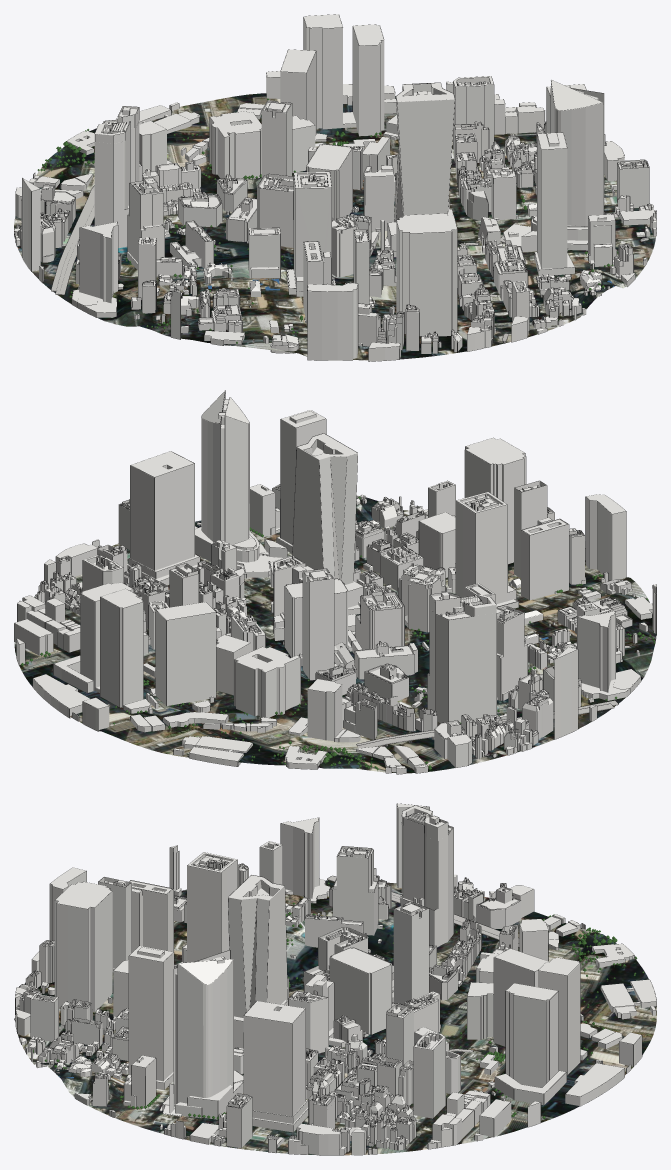
The model's file is Toranomon-city-model-complete.glb.
3 renders of one model, top to bottom at view 1: azimuth 30°, elevation 25°; view 2: azimuth 150°, elevation 25°; view 3: azimuth 270°, elevation 25°, orthographic.
Parts seen in each view (by area): view 1: BUILDINGS_COMMERCIAL, BUILDINGS_OTHER, TERRAIN, OUTLINES, BUILDINGS_PUBLIC, BUILDINGS_RESIDENTIAL, BRIDGES; view 2: BUILDINGS_COMMERCIAL, BUILDINGS_OTHER, OUTLINES, BUILDINGS_PUBLIC, TERRAIN, BUILDINGS_RESIDENTIAL, BRIDGES; view 3: BUILDINGS_COMMERCIAL, BUILDINGS_OTHER, OUTLINES, TERRAIN, BUILDINGS_PUBLIC, BUILDINGS_RESIDENTIAL, BRIDGES.
Part boxes in pixels (box(x1,y1,x2,y2)): BUILDINGS_COMMERCIAL: box(22, 49, 613, 360); BUILDINGS_OTHER: box(14, 94, 656, 353); TERRAIN: box(14, 93, 655, 360); OUTLINES: box(14, 14, 656, 361); BUILDINGS_PUBLIC: box(139, 14, 452, 345); BUILDINGS_RESIDENTIAL: box(67, 131, 616, 361); BRIDGES: box(51, 186, 618, 343); BUILDINGS_COMMERCIAL: box(82, 391, 640, 739); BUILDINGS_OTHER: box(14, 484, 656, 774); OUTLINES: box(14, 390, 656, 774); BUILDINGS_PUBLIC: box(16, 567, 652, 766); TERRAIN: box(14, 495, 656, 773); BUILDINGS_RESIDENTIAL: box(211, 410, 619, 769); BRIDGES: box(269, 574, 630, 748); BUILDINGS_COMMERCIAL: box(30, 803, 597, 1132); BUILDINGS_OTHER: box(15, 805, 655, 1155); OUTLINES: box(14, 803, 656, 1155); TERRAIN: box(15, 880, 656, 1155); BUILDINGS_PUBLIC: box(304, 927, 656, 1127); BUILDINGS_RESIDENTIAL: box(31, 887, 633, 1154); BRIDGES: box(14, 876, 519, 1073).
Bounding box in the file's own units: 1007 × 267 × 1002.
378 materials, 1 textured.
